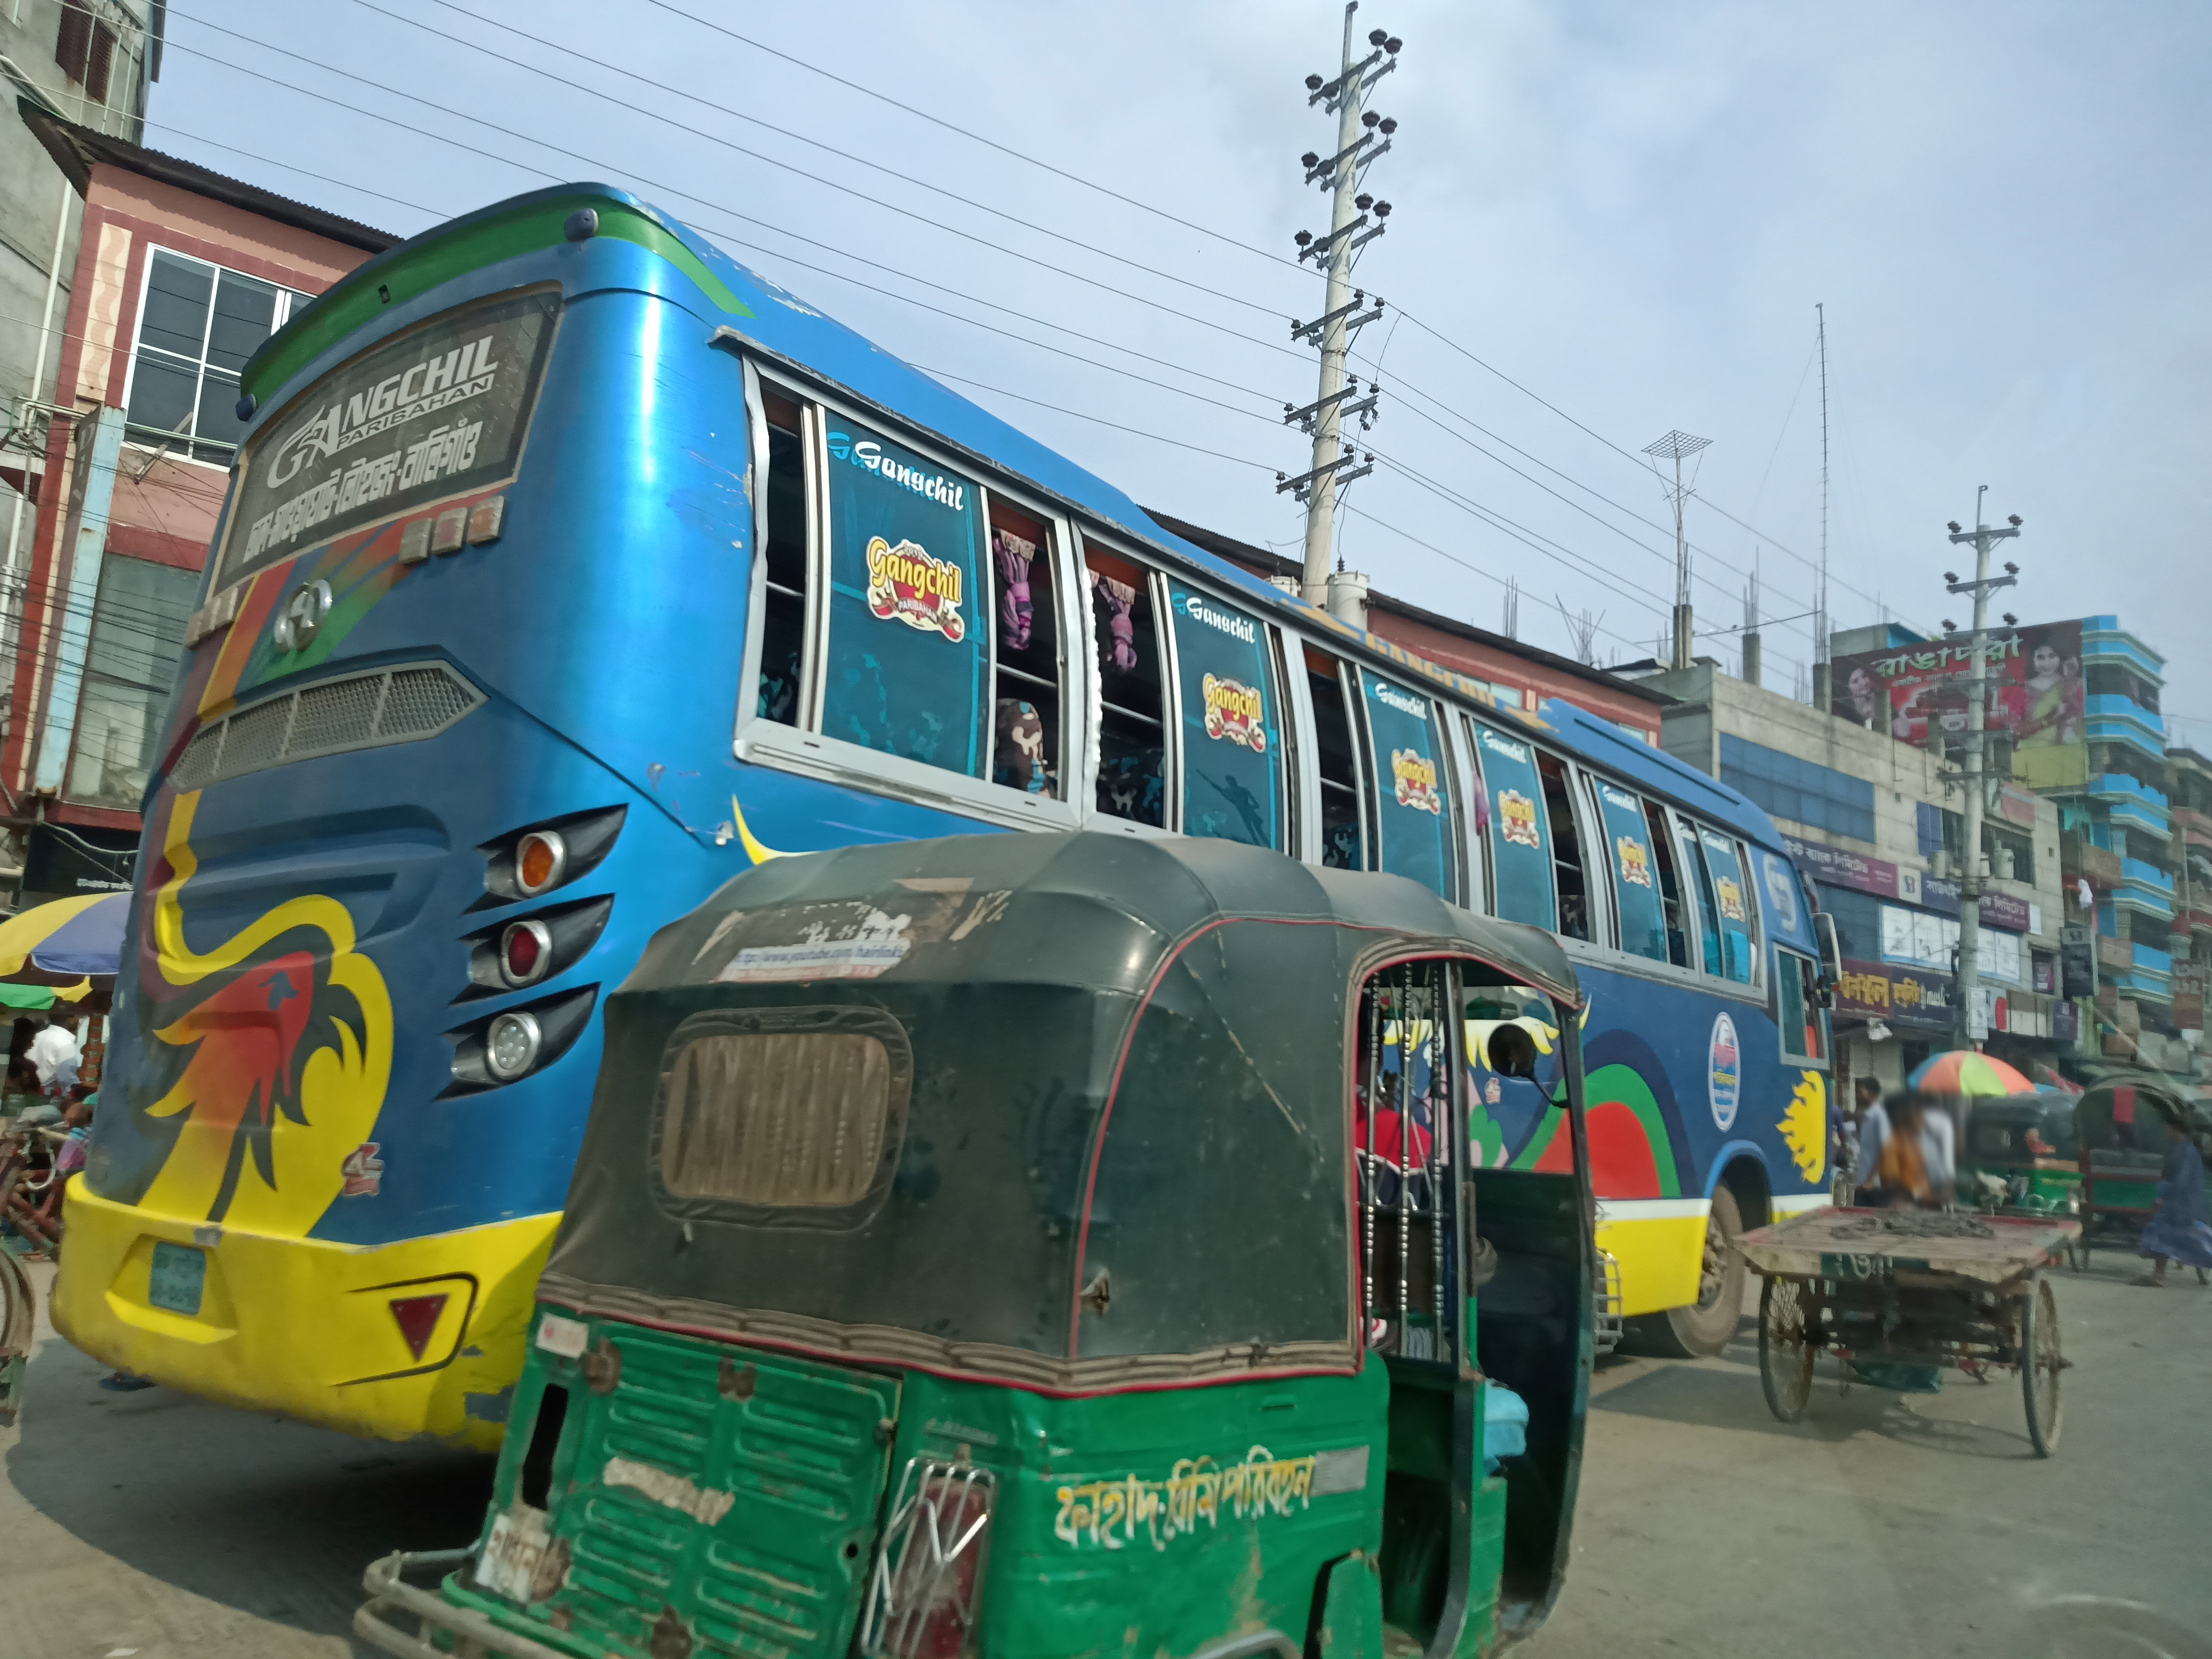bus: (54, 178, 1839, 1446)
cng: (361, 833, 1620, 1659), (1956, 1091, 2073, 1206)
rickshaw: (2078, 1073, 2184, 1253)
van: (1742, 1175, 2088, 1455)
